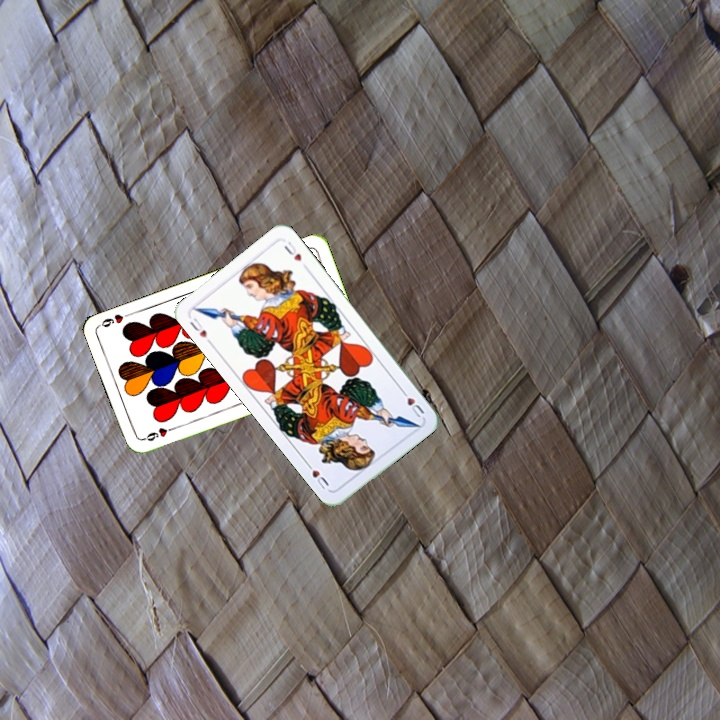H9: (139, 423, 178, 444)
HU: (397, 385, 427, 420), (185, 314, 209, 340)
